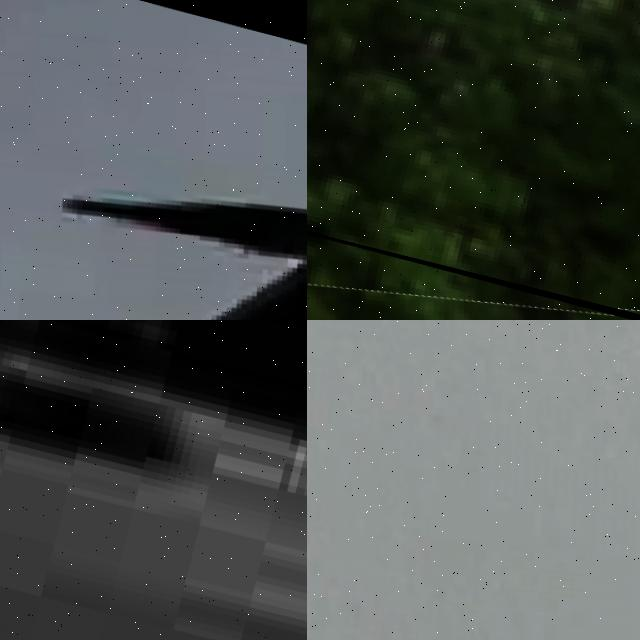drone: (307, 320, 640, 640), (0, 0, 307, 320), (307, 195, 640, 320)
